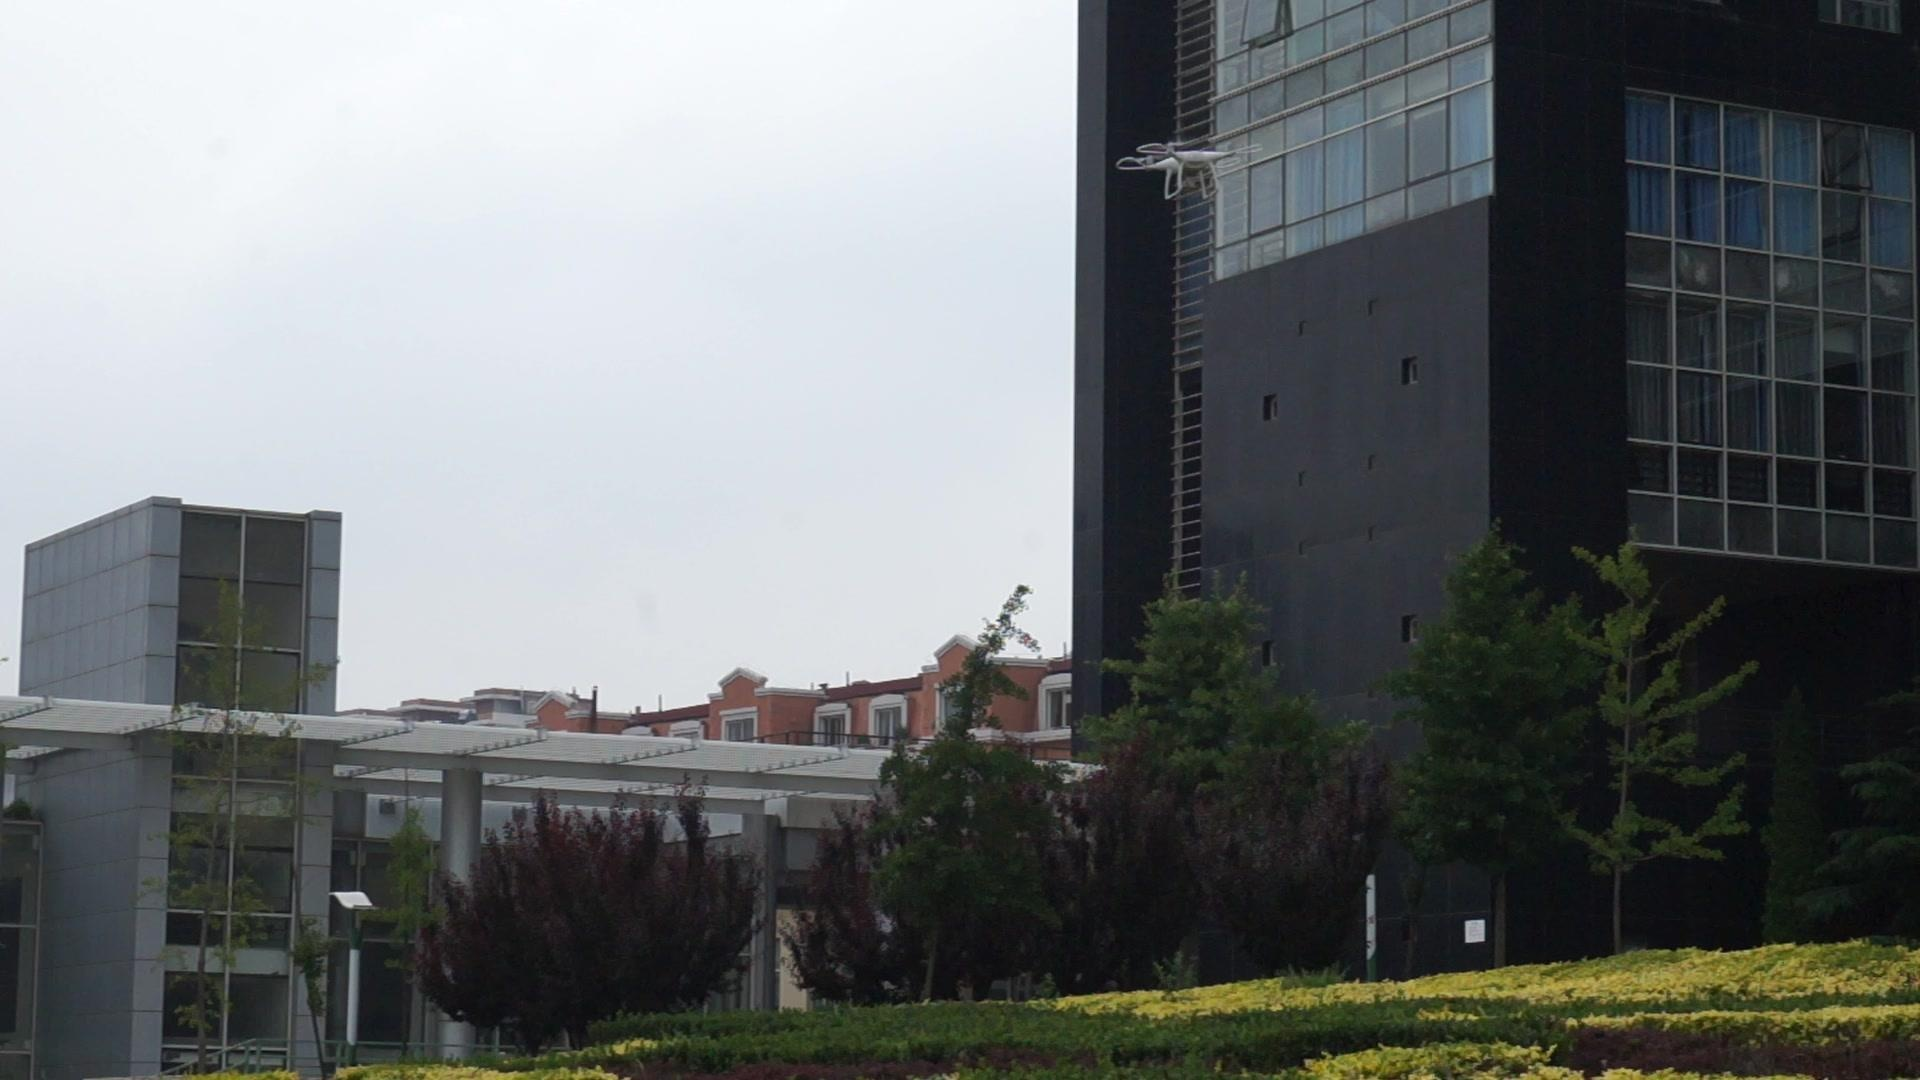UAV: (1116, 142, 1263, 200)
